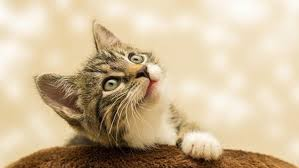kedi: (34, 9, 212, 166)
